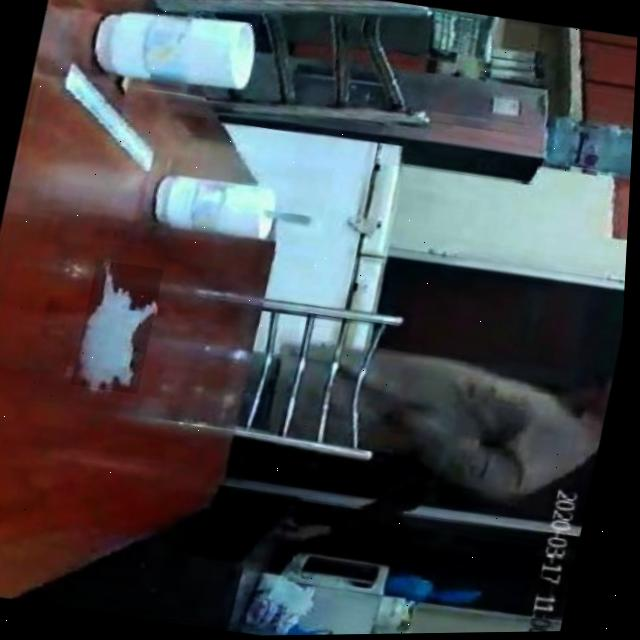spillage: (79, 262, 158, 389)
